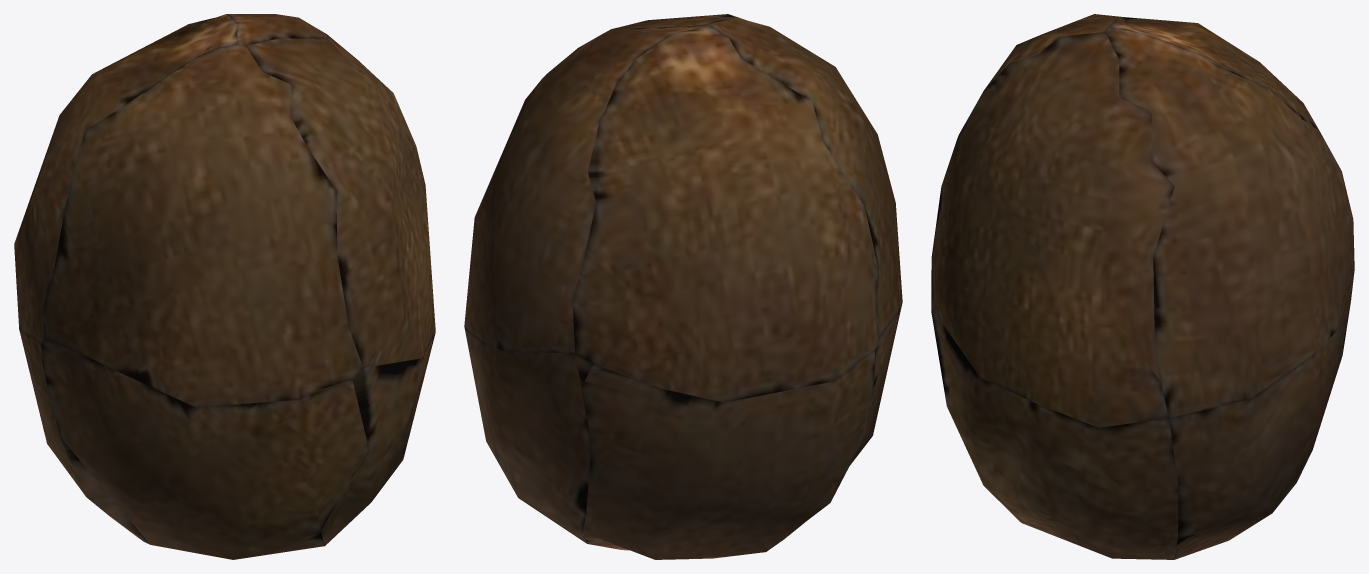
The model's file is food_kiwi_01.glb.
3 views of the same model, side by side, from view 1: azimuth 30°, elevation 25°; view 2: azimuth 150°, elevation 25°; view 3: azimuth 270°, elevation 25° (orthographic).
Parts seen in each view (by area): view 1: food_kiwi_01; view 2: food_kiwi_01; view 3: food_kiwi_01.
Part boxes in pixels (x1=…): food_kiwi_01: x1=14, y1=14, x2=435, y2=559; food_kiwi_01: x1=464, y1=14, x2=902, y2=559; food_kiwi_01: x1=931, y1=14, x2=1354, y2=559.
Size of the model in its own units: 0.0689 by 0.0885 by 0.068.
1 material, 1 textured.
